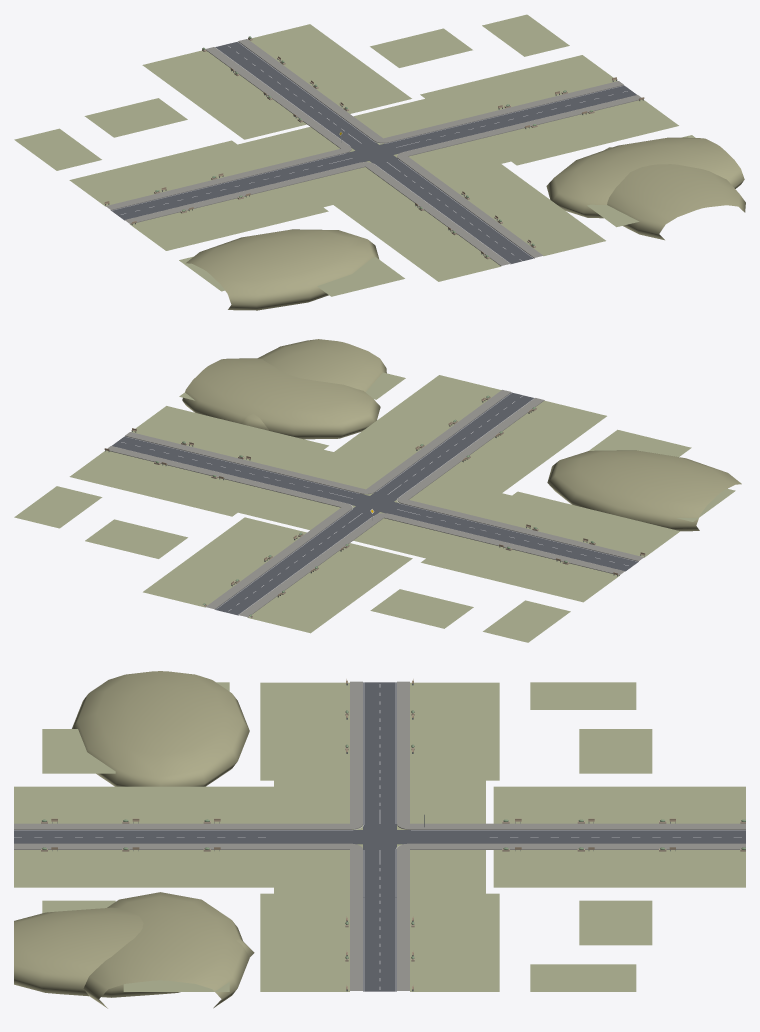
3 renders of one model, top to bottom at view 1: azimuth 30°, elevation 25°; view 2: azimuth 150°, elevation 25°; view 3: azimuth 270°, elevation 25°, orthographic. The views are drawn at different scales.
Parts seen in each view (by area): view 1: static; view 2: static; view 3: static.
Boxes of the visible parts, bbox=[...] form: static: bbox=[14, 14, 745, 310]; static: bbox=[14, 339, 741, 642]; static: bbox=[14, 671, 745, 1008].
Size of what is drawn, in the model's own units: 180 by 14.08 by 180.
3 materials, 2 textured.
